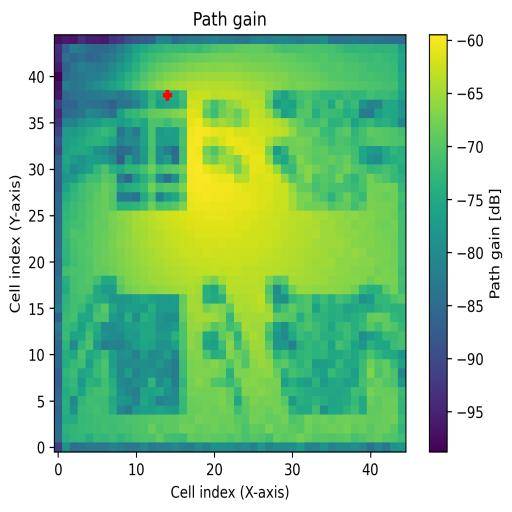Concrete: (289, 89, 366, 211)
Glass: (116, 91, 188, 210)
Metal: (289, 296, 368, 414)
Wood: (109, 294, 187, 417)
